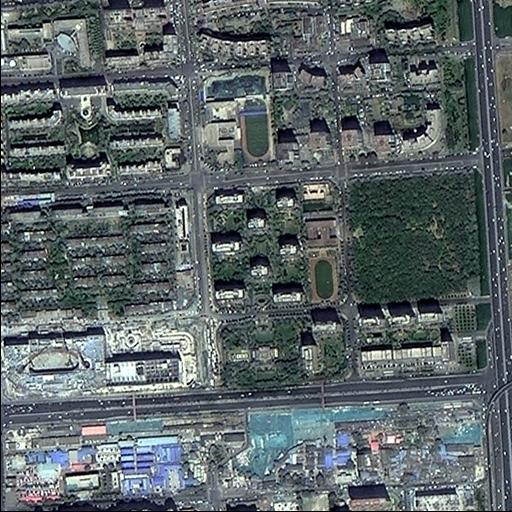school: (194, 66, 275, 169), (303, 213, 344, 307)
